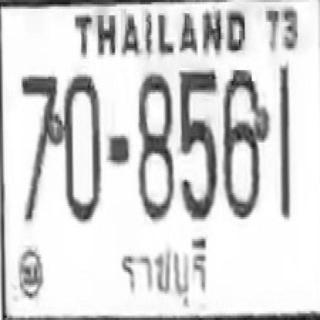N00: (62, 72, 102, 221)
N01: (278, 64, 291, 210)
N05: (179, 68, 218, 219)
N06: (222, 68, 270, 219)
N07: (19, 72, 60, 221)
N08: (136, 71, 174, 220)
P52: (116, 234, 211, 313)
